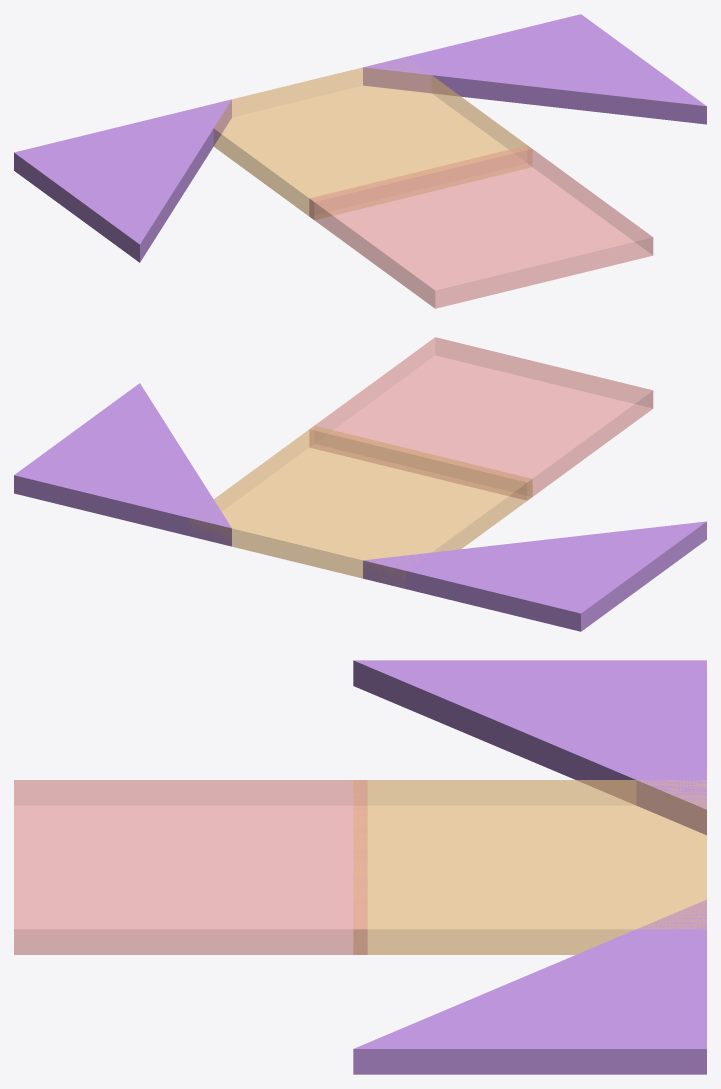
Rendered from macchina_step4.glb.
3 renders of one model, top to bottom at view 1: azimuth 30°, elevation 25°; view 2: azimuth 150°, elevation 25°; view 3: azimuth 270°, elevation 25°, orthographic. The views are drawn at different scales.
Visible parts, largest first — view 1: quadrato_grande, quadrato_piccolo, triangolo_rettangolo.001, triangolo_rettangolo; view 2: quadrato_grande, quadrato_piccolo, triangolo_rettangolo, triangolo_rettangolo.001; view 3: quadrato_grande, quadrato_piccolo, triangolo_rettangolo.001, triangolo_rettangolo.
Boxes of the visible parts, x1,y1,x2,y2 form: quadrato_grande: [309, 145, 653, 308]; quadrato_piccolo: [205, 59, 532, 219]; triangolo_rettangolo.001: [363, 14, 706, 124]; triangolo_rettangolo: [14, 99, 231, 262]; quadrato_grande: [309, 337, 653, 500]; quadrato_piccolo: [188, 425, 532, 588]; triangolo_rettangolo: [363, 521, 706, 631]; triangolo_rettangolo.001: [14, 383, 231, 546]; quadrato_grande: [14, 780, 367, 954]; quadrato_piccolo: [353, 780, 706, 954]; triangolo_rettangolo.001: [353, 900, 706, 1074]; triangolo_rettangolo: [353, 660, 706, 834].
Bounding box in the file's own units: 2.6 × 0.08 × 1.96.
